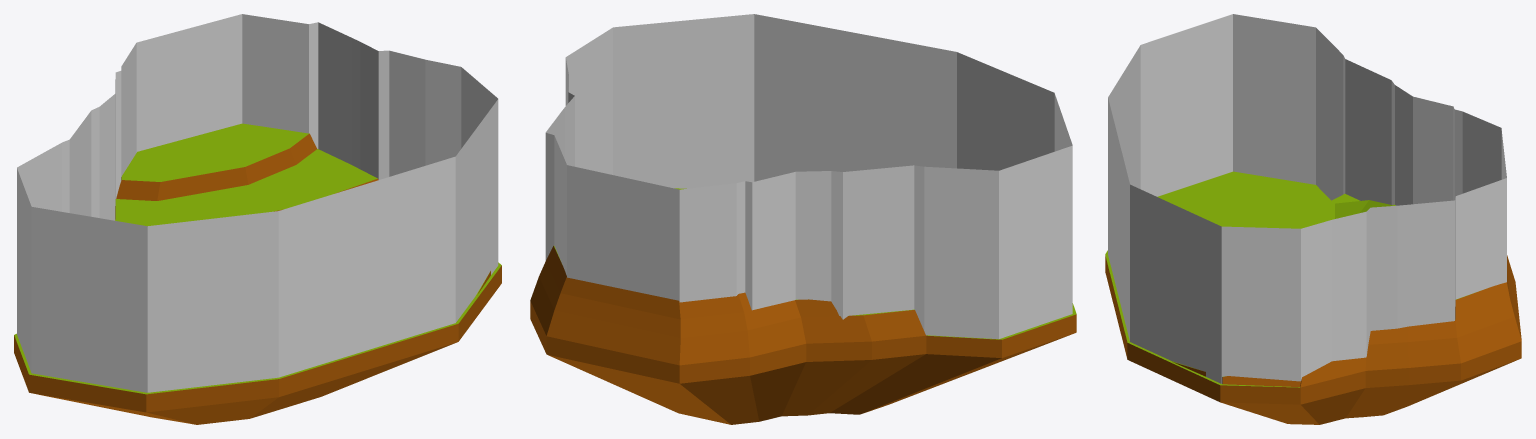
The model's file is SkyIsland_V3_210305.fbx.
3 renders of one model, left to right at view 1: azimuth 30°, elevation 25°; view 2: azimuth 150°, elevation 25°; view 3: azimuth 270°, elevation 25°, orthographic. The views are drawn at different scales.
Visible parts, largest first — view 1: Boundary, New Sky; view 2: Boundary, New Sky; view 3: Boundary, New Sky.
Boxes of the visible parts, left/top/right/bottom form: Boundary: left=17, top=14, right=498, bottom=392; New Sky: left=14, top=123, right=501, bottom=424; Boundary: left=545, top=14, right=1072, bottom=339; New Sky: left=530, top=188, right=1076, bottom=424; Boundary: left=1108, top=14, right=1506, bottom=383; New Sky: left=1105, top=171, right=1521, bottom=424.
Size of the model in its own units: 4510 by 2468 by 3650.
Materials: 2 (1 with a texture image).
